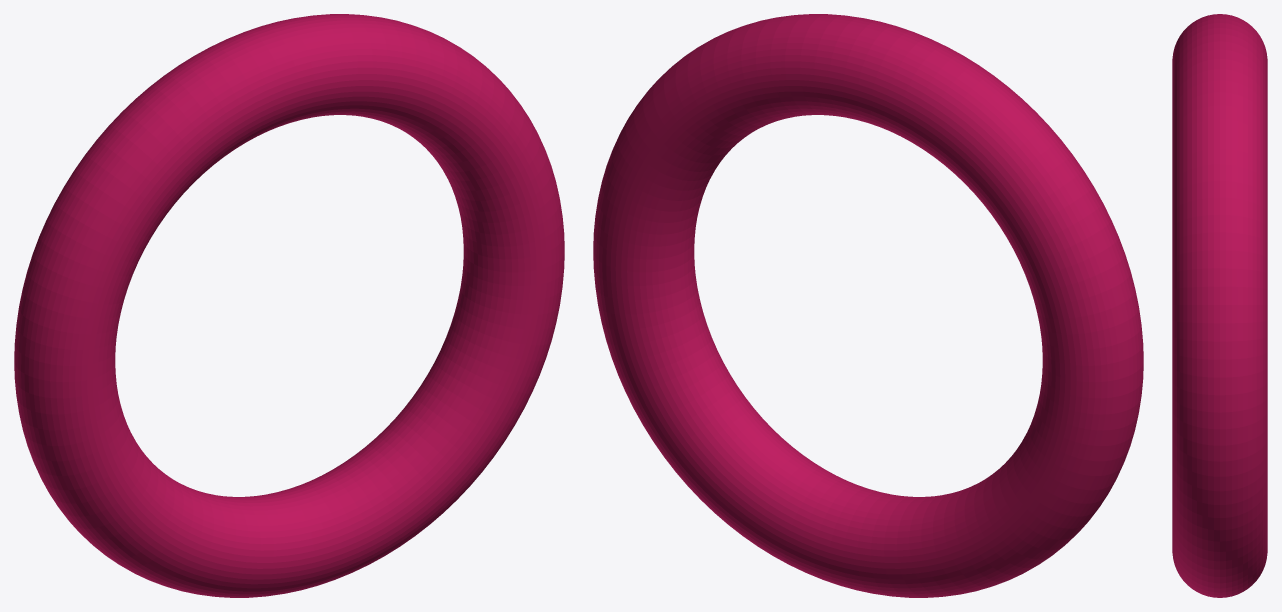
3 views of the same model, side by side, from view 1: azimuth 30°, elevation 25°; view 2: azimuth 150°, elevation 25°; view 3: azimuth 270°, elevation 25° (orthographic). The views are drawn at different scales.
Parts seen in each view (by area): view 1: world; view 2: world; view 3: world.
Boxes of the visible parts, x1,y1,x2,y2 form: world: (14,14,564,597); world: (593,14,1143,597); world: (1172,14,1267,597).
Size of the model in its own units: 30.27 by 30.27 by 4.92.
